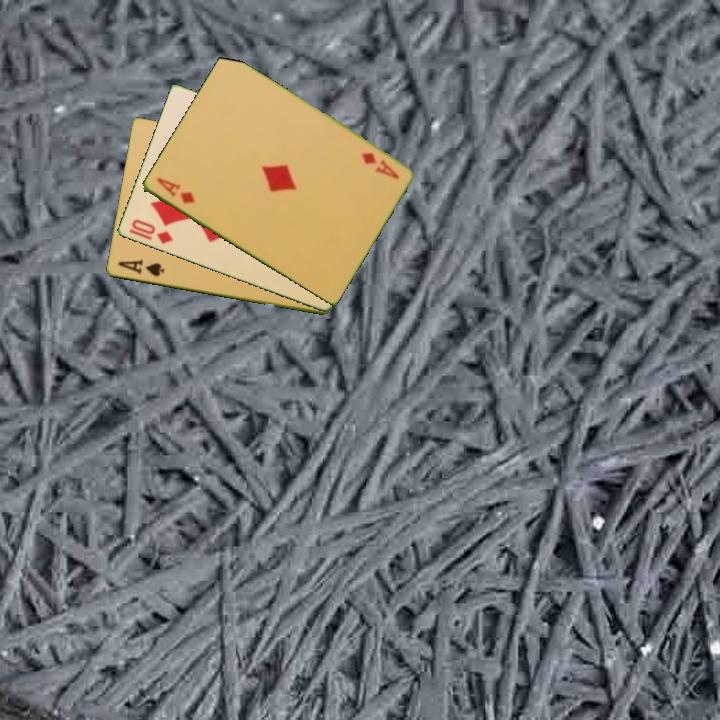10d: (125, 216, 176, 247)
Ad: (152, 174, 197, 207), (358, 149, 402, 182)
As: (114, 256, 167, 280)
